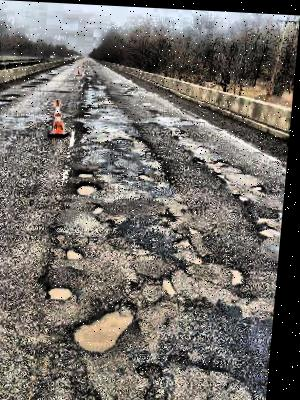pothole: (75, 296, 143, 354), (138, 359, 176, 400), (197, 154, 242, 171), (50, 283, 79, 301), (77, 180, 104, 197), (165, 274, 183, 295), (233, 264, 250, 285), (68, 246, 89, 259), (261, 222, 284, 233), (176, 233, 196, 245), (94, 201, 109, 215), (79, 166, 98, 177), (4, 92, 23, 101), (139, 169, 155, 179), (259, 212, 278, 220), (254, 180, 268, 190), (239, 190, 252, 200), (195, 252, 208, 262), (24, 82, 38, 91), (38, 75, 49, 85)
